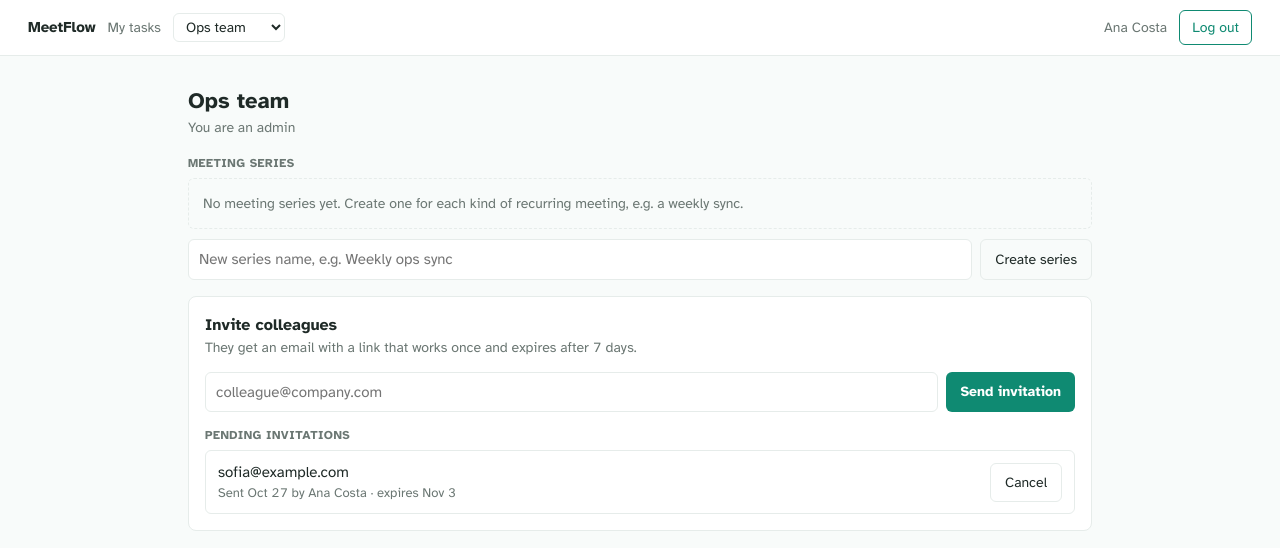
Test case: inviting colleagues from the team page › cancels a pending invitation
Click the button with aria-label "Cancel the invitation to sofia@example.com".
click(1026, 482)  # box [990,462,1062,502]
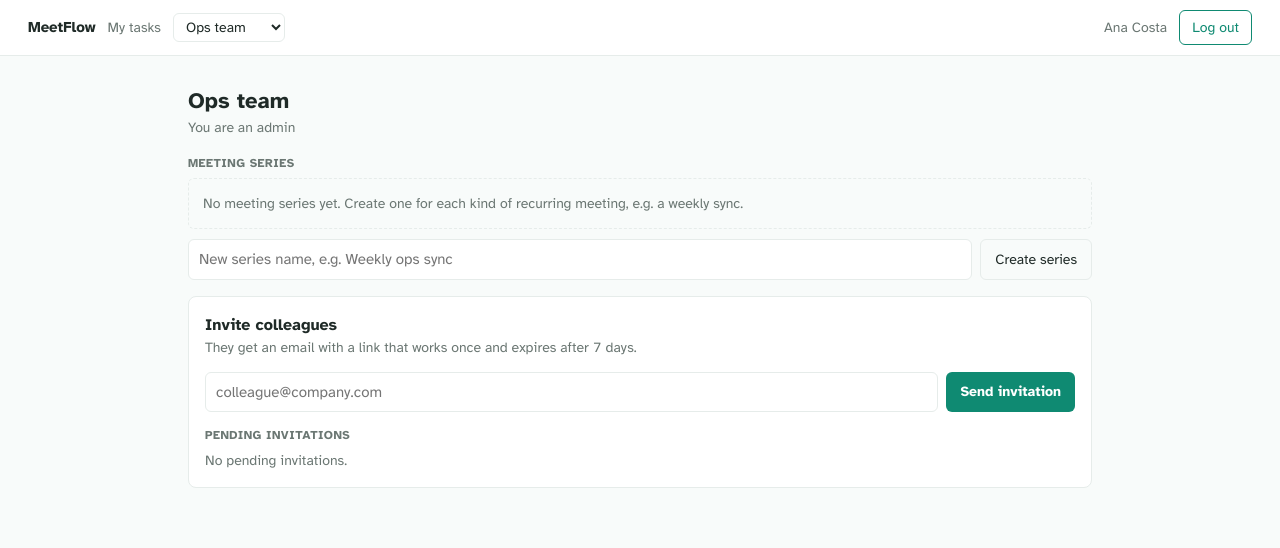
Check: the text "No pending invitations." is shown, box [205,452,347,469]
